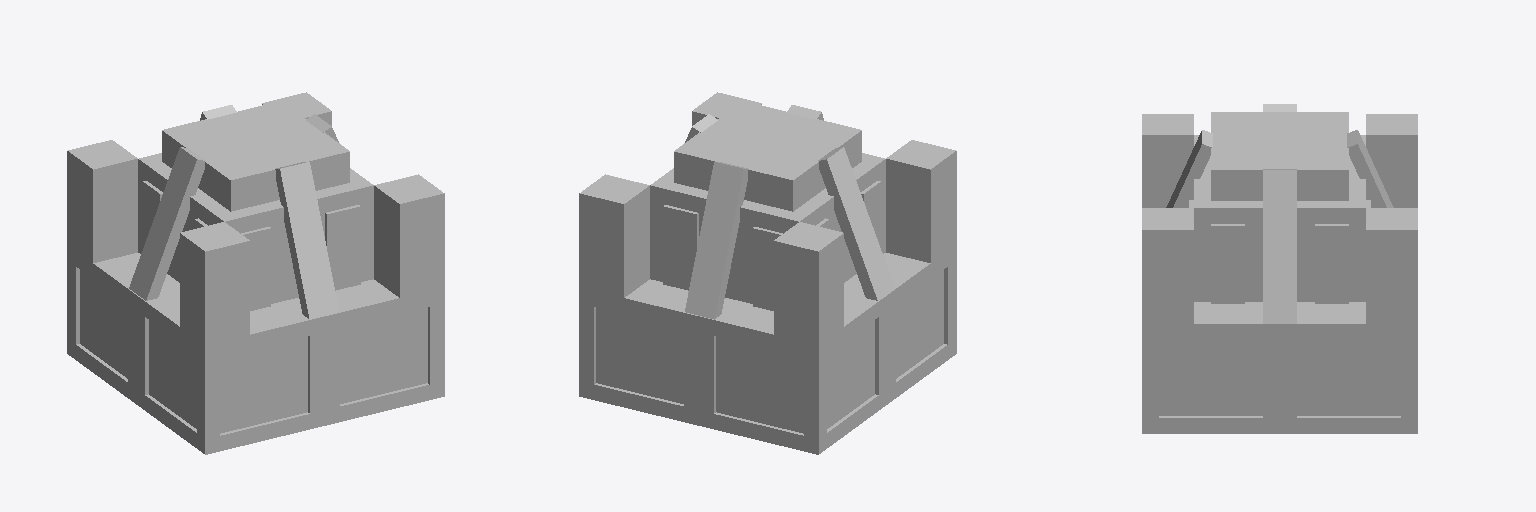
The model's file is coercionDriver.obj.
3 views of the same model, side by side, from view 1: azimuth 30°, elevation 25°; view 2: azimuth 150°, elevation 25°; view 3: azimuth 270°, elevation 25° (orthographic).
Visible parts, largest first — view 1: cube; view 2: cube; view 3: cube.
Boxes of the visible parts, box(x1,y1,x2,y2) form: cube: box(67, 92, 444, 454); cube: box(579, 92, 956, 454); cube: box(1142, 104, 1417, 433).
Bounding box in the file's own units: 16 × 15.26 × 16.